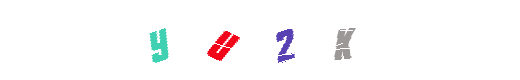2: (220, 0, 300, 80)
K: (272, 0, 352, 80)
U: (182, 0, 262, 80)
Y: (119, 0, 199, 80)
